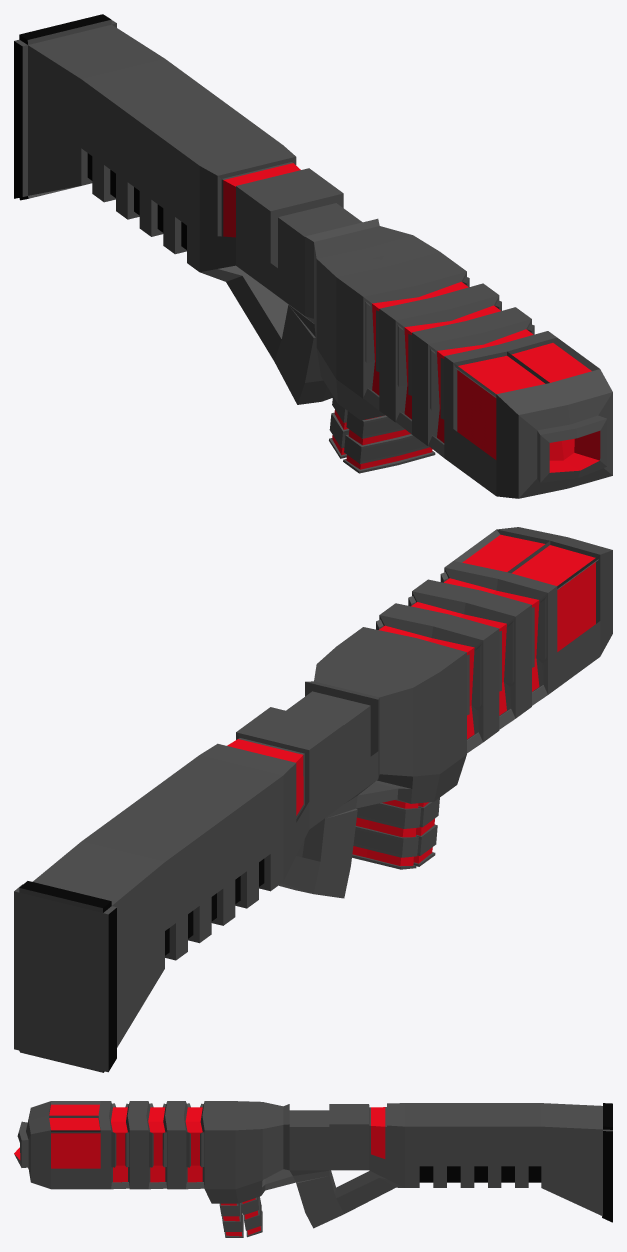
File: arma.fbx
The picture shows the model from 3 angles, top to bottom: view 1: azimuth 30°, elevation 25°; view 2: azimuth 150°, elevation 25°; view 3: azimuth 270°, elevation 25°; orthographic projection. The views are drawn at different scales.
Visible parts, largest first — view 1: Cube; view 2: Cube; view 3: Cube.
Part boxes in pixels (left/top/right/bottom): Cube: left=14, top=14, right=612, bottom=498; Cube: left=14, top=527, right=612, bottom=1072; Cube: left=14, top=1101, right=612, bottom=1237.
Size of the model in its own units: 1.02 by 1.83 by 8.78.
